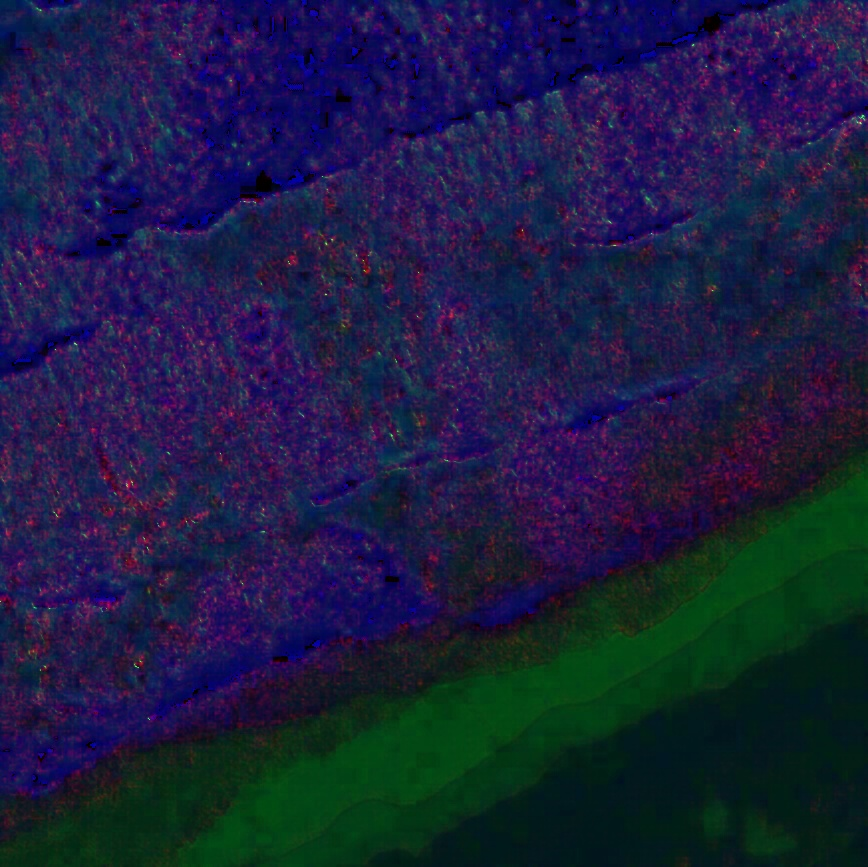rip_current: (209, 177, 580, 626)
